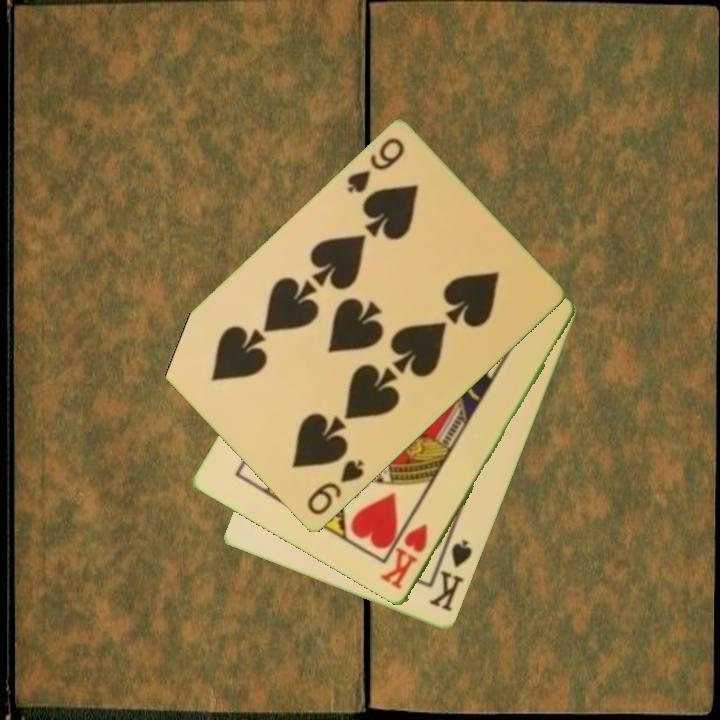9s: (343, 134, 408, 197), (303, 456, 367, 519)
Kh: (377, 520, 431, 593)
Ks: (426, 532, 476, 615)
